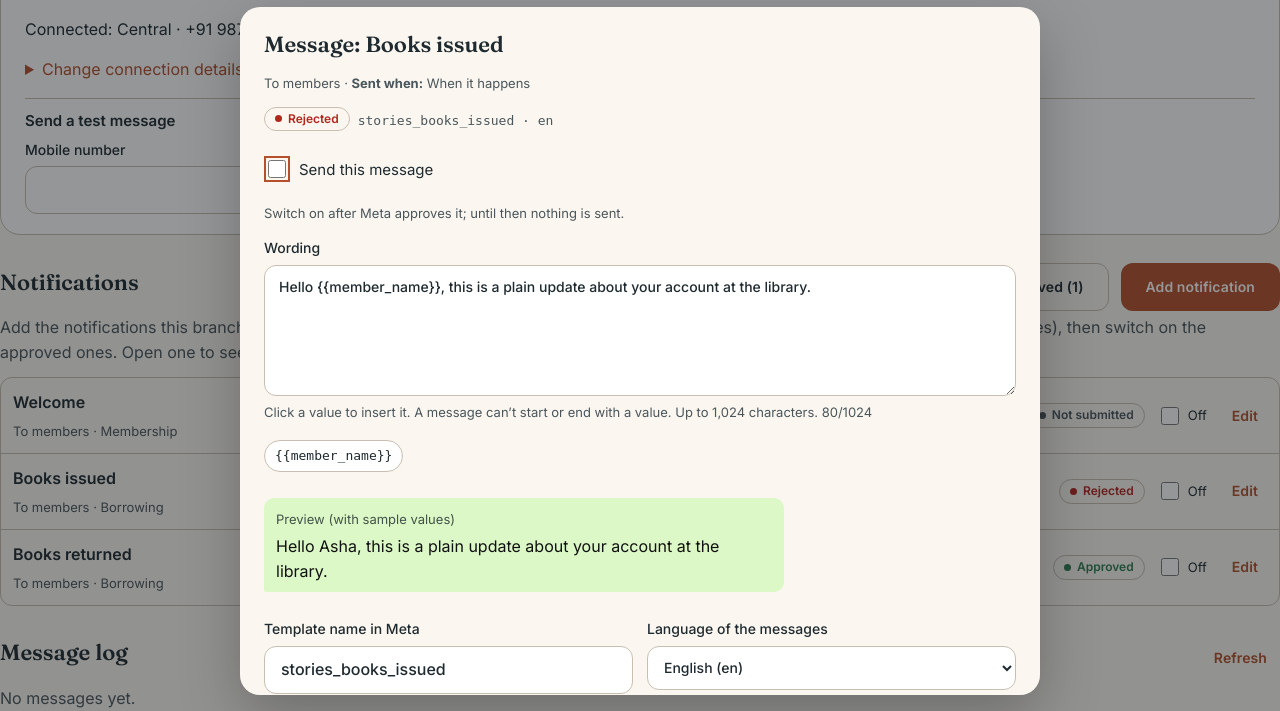
Test case: the WhatsApp page › sends a notification again with "Submit all to Meta" once it was reworded, whatever Meta said of the old wording
Earlier steps of the test are not shown.
(page scrolled)
Type " Thank you for reading with us." into the text box labelled "Wording" at (640, 330), box [264, 265, 1016, 396]
(page scrolled)
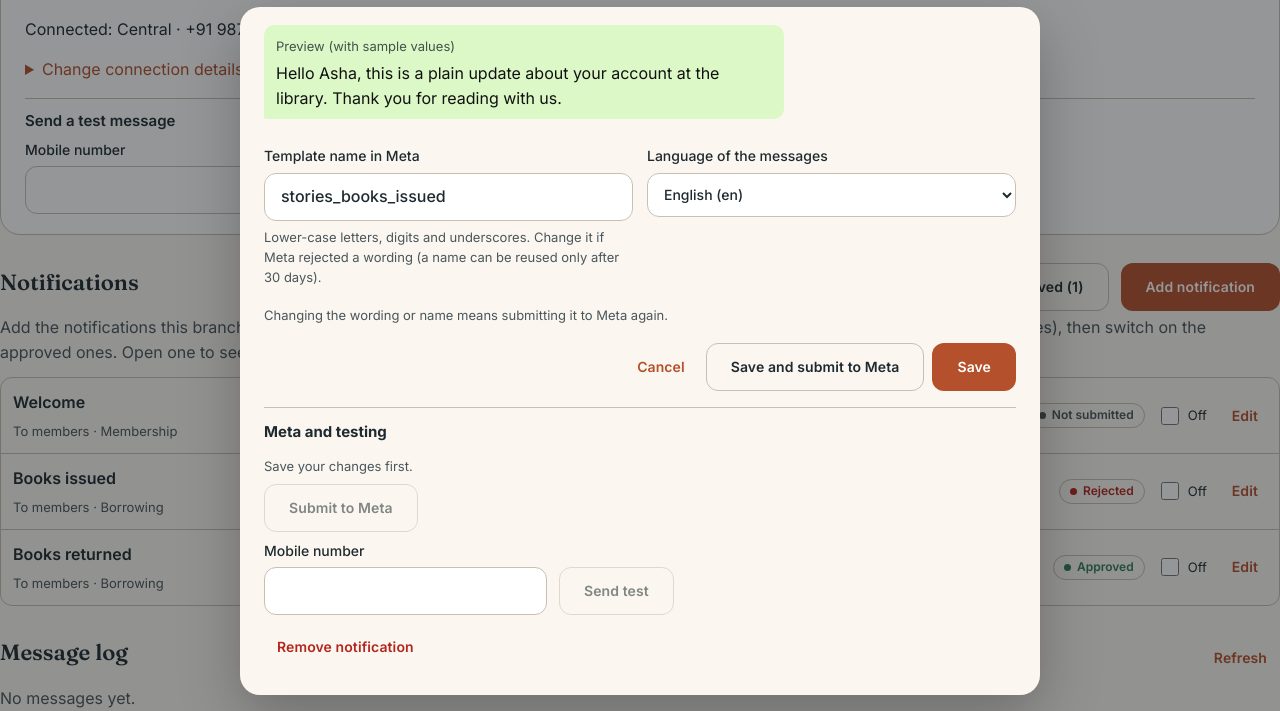
Click the button "Save" at (974, 367), box [932, 343, 1016, 391]
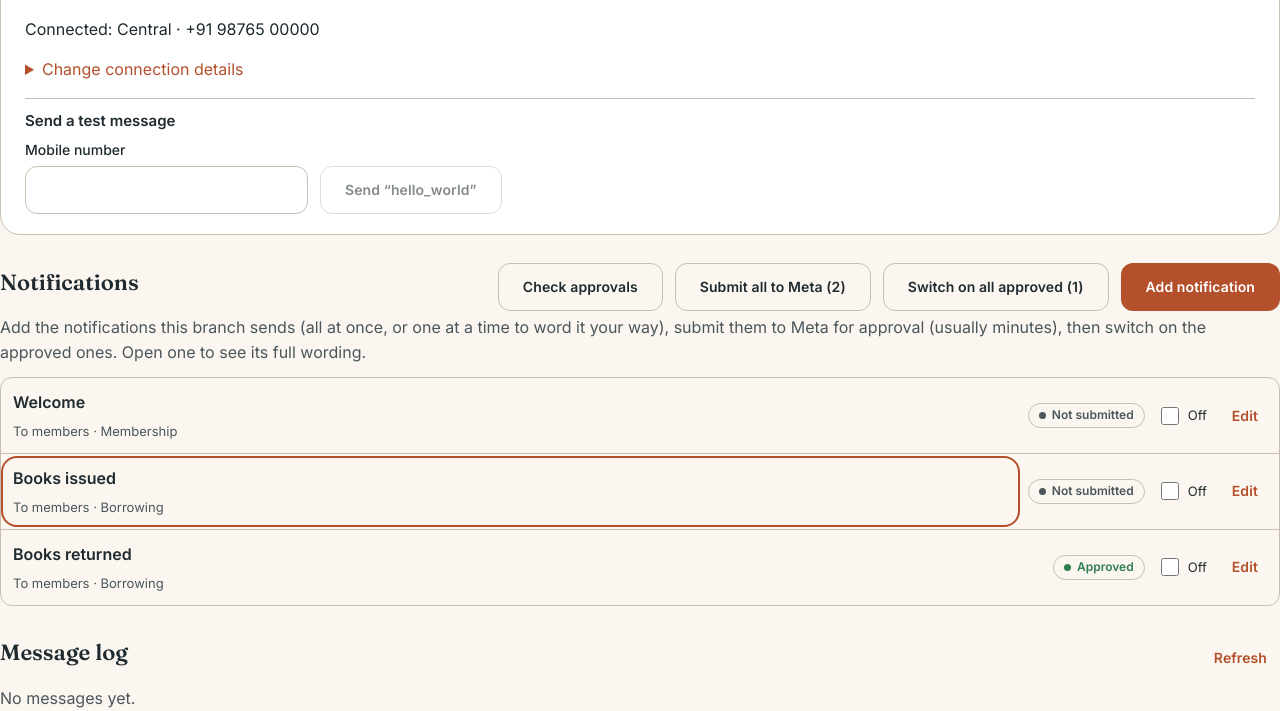
Result: the dialog is gone
Click the button "Books returned To members · Borrowing" at (72, 554), box [5, 536, 1041, 599]
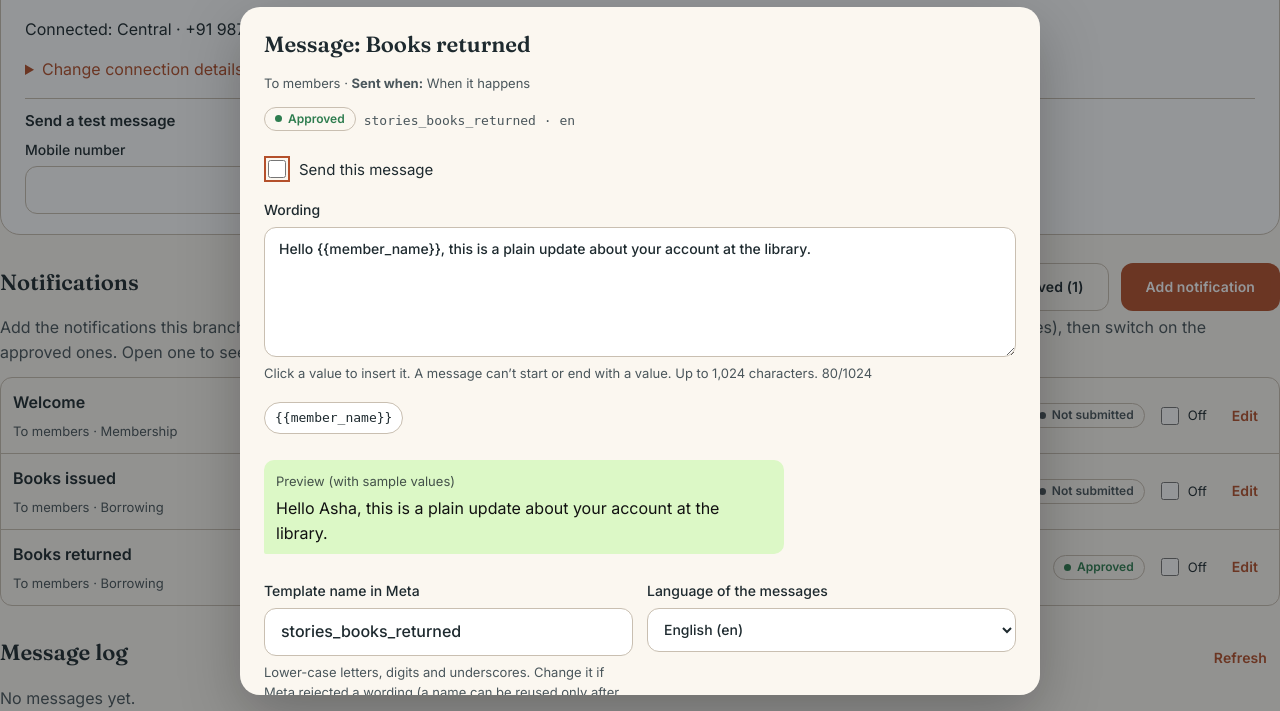
Type " Thank you for reading with us." into the text box labelled "Wording" at (640, 292), box [264, 227, 1016, 357]
(page scrolled)
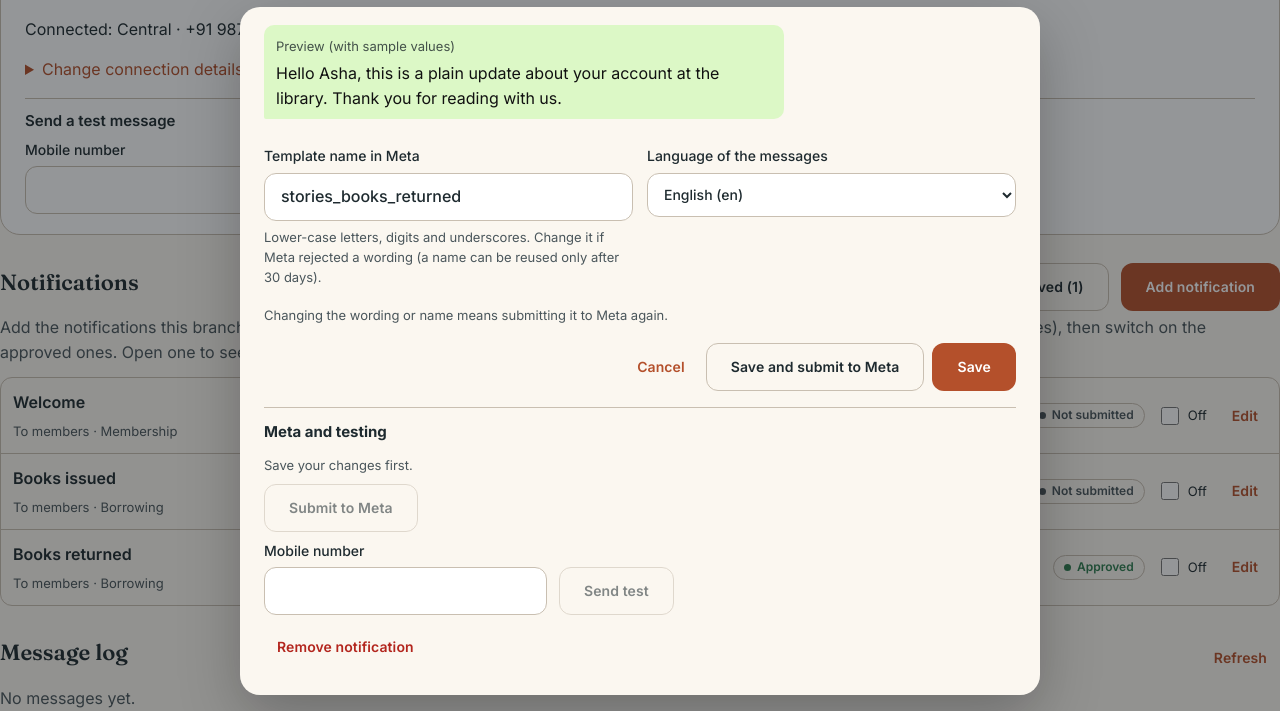
Click the button "Save" at (974, 367), box [932, 343, 1016, 391]
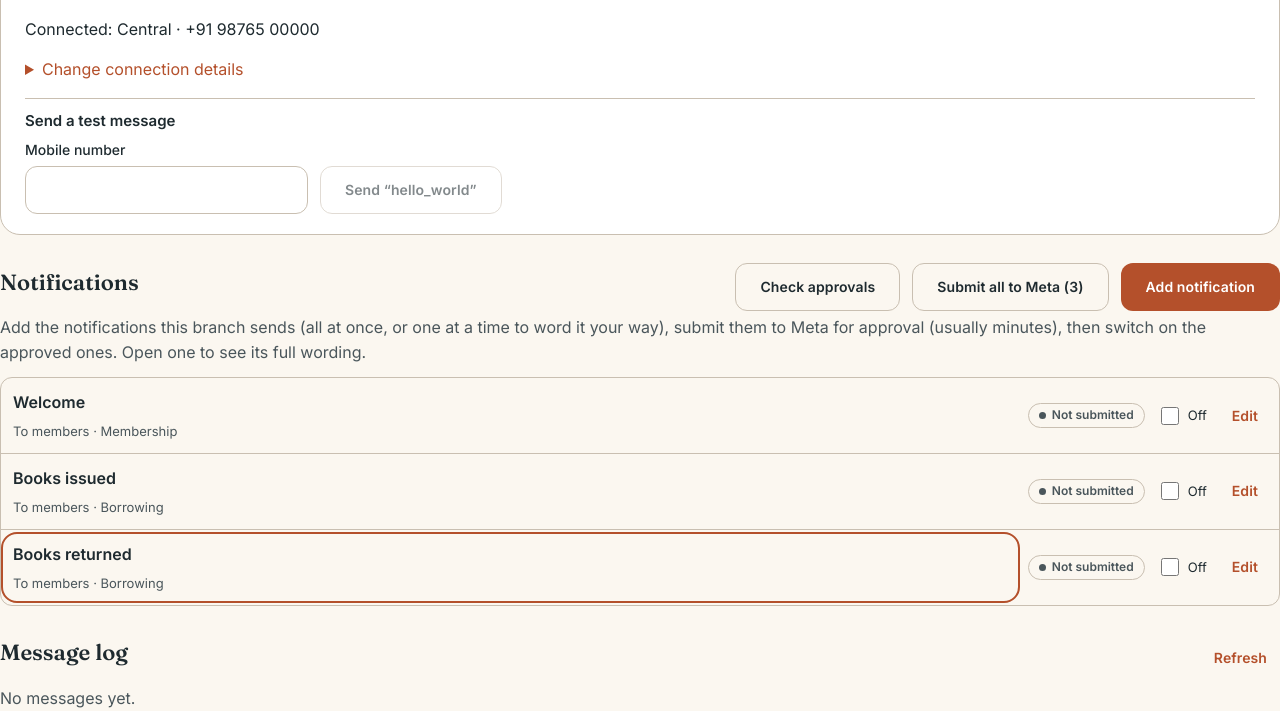
Result: the dialog is gone
Click the button "Submit all to Meta (3)" at (1010, 288), box [912, 264, 1108, 312]
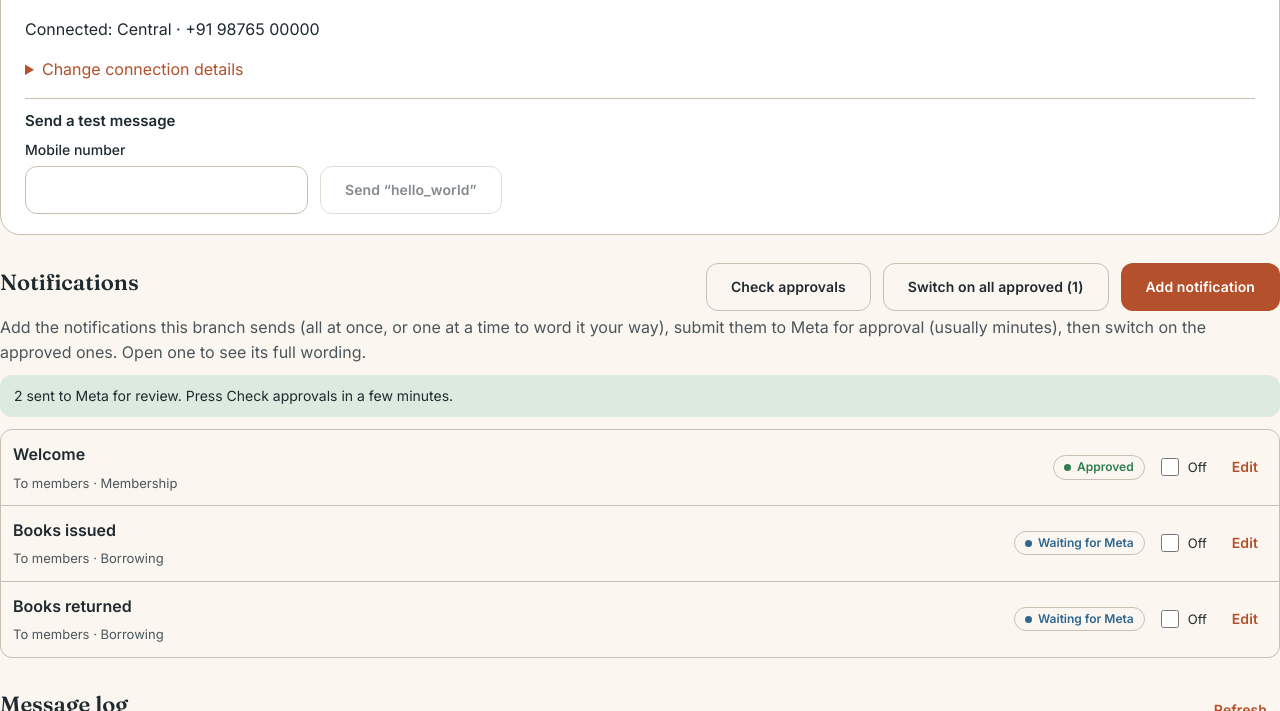
Result: the button "Submit all to Meta" is gone
